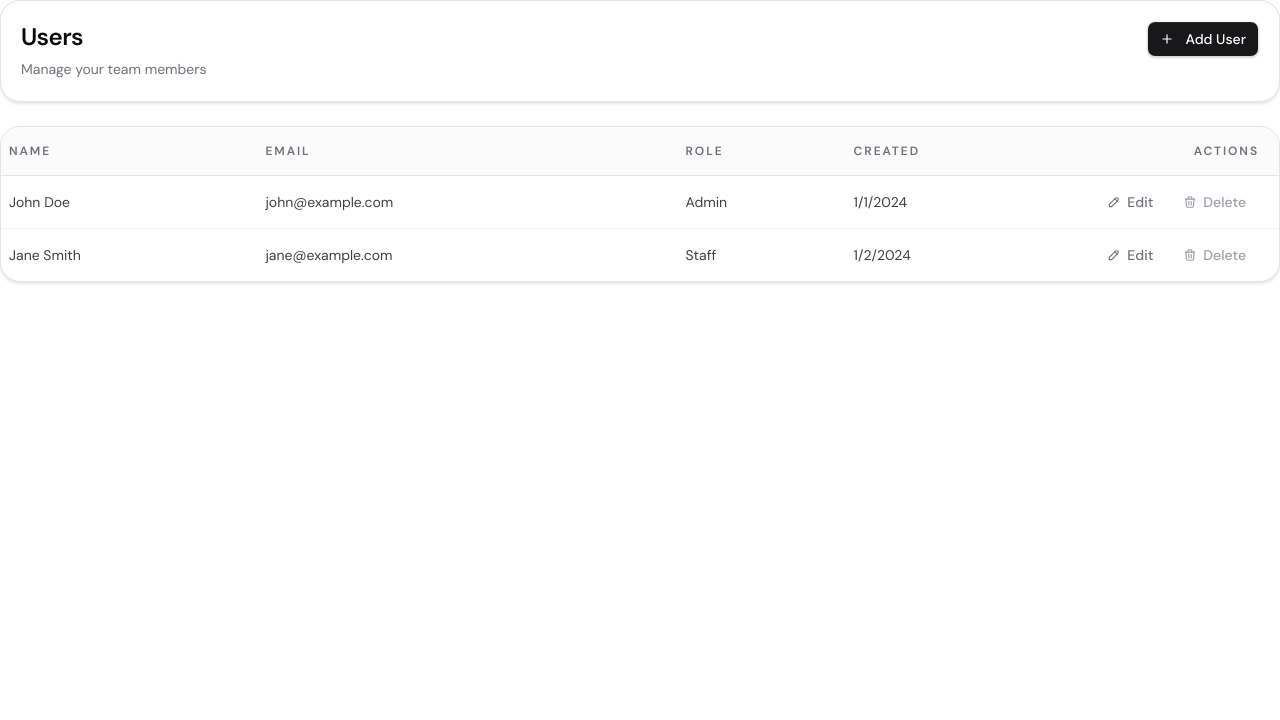
Test: UsersModule › opens add dialog on "Add User" click
Click the button "Add User".
click(1203, 39)  # box [1146,21,1259,57]
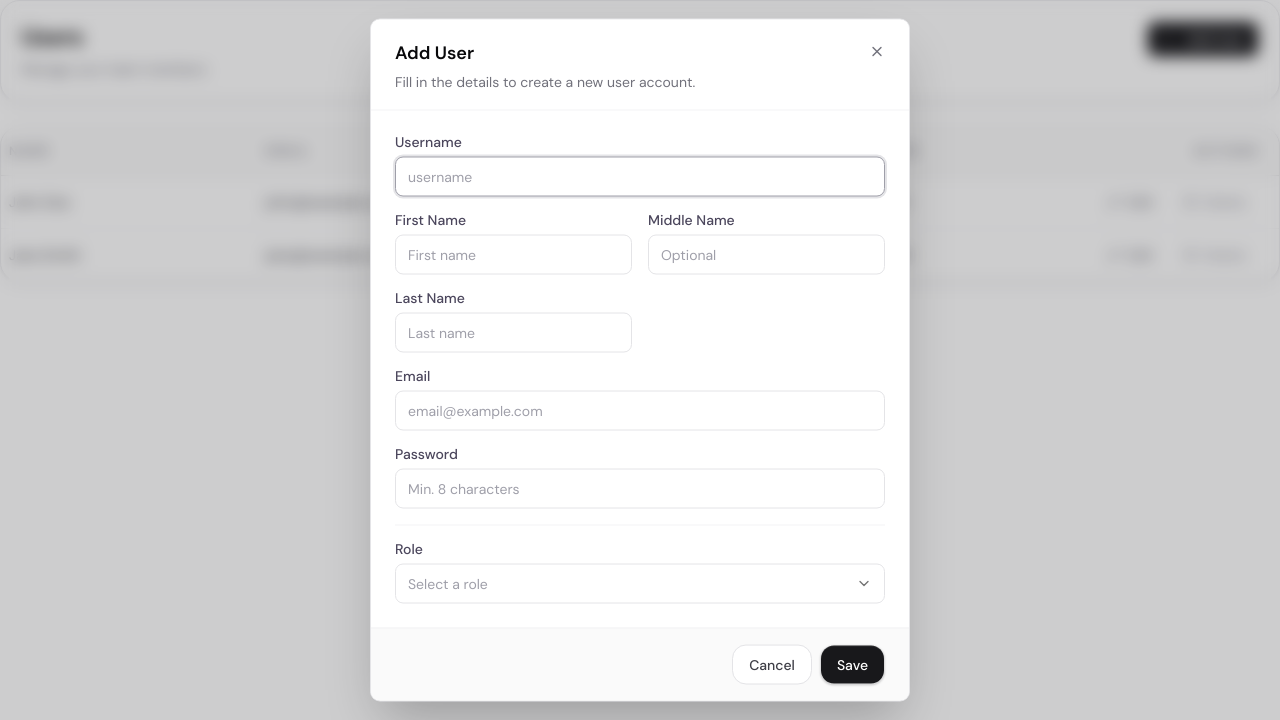
Expected: the dialog is shown, [370,18,910,702]
